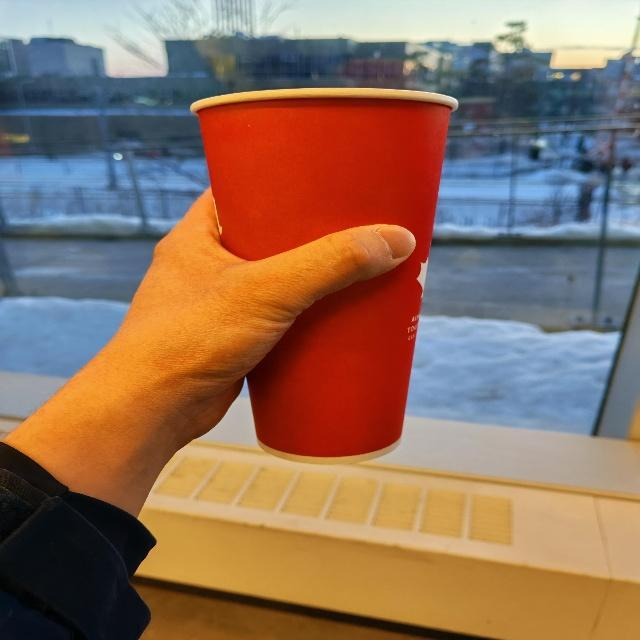timmies: (186, 84, 467, 466)
